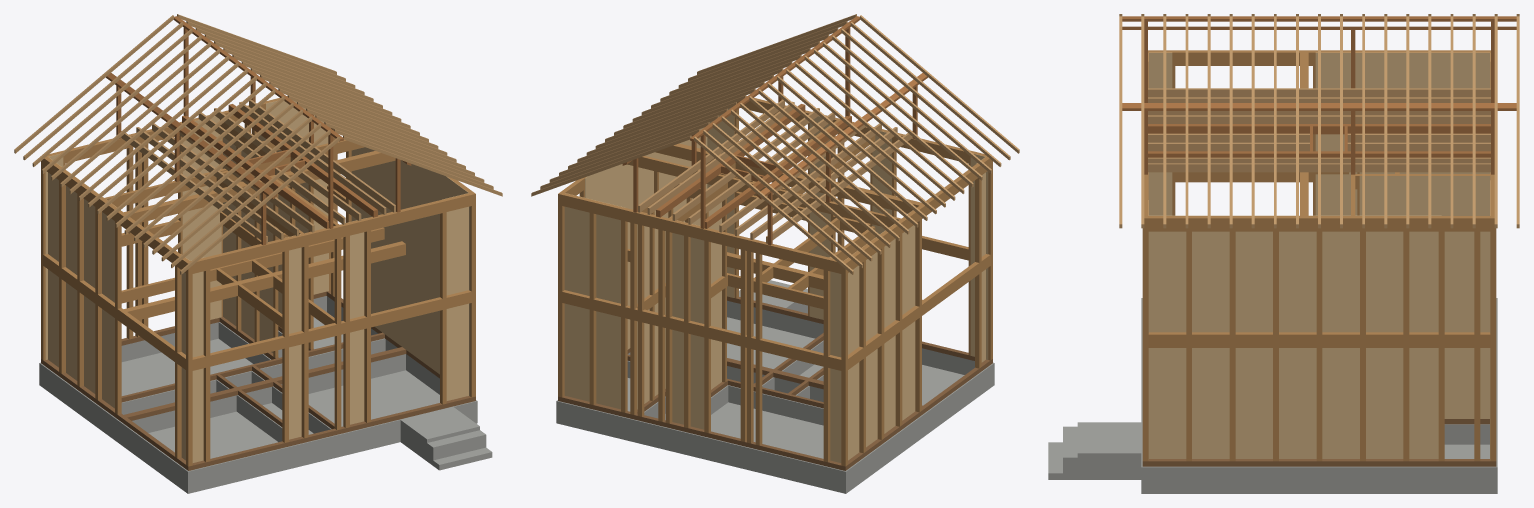
File: structure_W.glb
3 renders of one model, left to right at view 1: azimuth 30°, elevation 25°; view 2: azimuth 150°, elevation 25°; view 3: azimuth 270°, elevation 25°, orthographic. The views are drawn at different scales.
Visible parts, largest first — view 1: foundation:raft:slab, structure:F2:beam_B01, structure:F1:beam_B01, foundation:existing_plinth:south, structure:F1:beam_B05, foundation:internal_supports:I01, structure:F1:beam_B03, structure:F1:bearing_wall_BW04, foundation:entrance_supports:porch, structure:F1:sill_B01, structure:F1:beam_B06, structure:F2:bearing_wall_BW04 (+128 smaller); view 2: foundation:raft:slab, structure:F2:beam_B02, structure:F1:beam_B02, foundation:existing_plinth:north, structure:F1:bearing_wall_BW09, structure:F1:bearing_wall_BW08, structure:F2:bearing_wall_BW09, structure:F1:beam_B03, structure:F2:bearing_wall_BW08, structure:F1:sill_B02, foundation:existing_plinth:west, foundation:stem_walls:north (+130 smaller); view 3: structure:F1:beam_B04, foundation:existing_plinth:east, structure:F2:beam_B04, structure:F1:bearing_wall_BW15, structure:F1:bearing_wall_BW16, structure:F1:bearing_wall_BW17, structure:F1:bearing_wall_BW18, structure:F1:bearing_wall_BW19, structure:F1:bearing_wall_BW20, structure:F1:bearing_wall_BW24, structure:F2:bearing_wall_BW16, structure:F2:bearing_wall_BW17 (+81 smaller).
Boxes of the visible parts, x1,y1,x2,y2 form: foundation:raft:slab: (39, 317, 477, 493); structure:F2:beam_B01: (186, 192, 475, 274); structure:F1:beam_B01: (186, 290, 475, 371); foundation:existing_plinth:south: (185, 400, 477, 482); structure:F1:beam_B05: (123, 241, 405, 320); foundation:internal_supports:I01: (132, 354, 405, 432); structure:F1:beam_B03: (43, 254, 185, 369); structure:F1:bearing_wall_BW04: (446, 303, 468, 400); foundation:entrance_supports:porch: (400, 407, 479, 455); structure:F1:sill_B01: (186, 396, 475, 470); structure:F1:beam_B06: (121, 227, 384, 303); structure:F2:bearing_wall_BW04: (442, 193, 468, 295); foundation:raft:slab: (556, 317, 994, 493); structure:F2:beam_B02: (558, 192, 847, 274); structure:F1:beam_B02: (558, 290, 847, 371); foundation:existing_plinth:north: (556, 400, 848, 482); structure:F1:bearing_wall_BW09: (564, 303, 589, 401); structure:F1:bearing_wall_BW08: (596, 311, 620, 409); structure:F2:bearing_wall_BW09: (564, 193, 592, 295); structure:F1:beam_B03: (848, 254, 990, 369); structure:F2:bearing_wall_BW08: (595, 200, 624, 303); structure:F1:sill_B02: (558, 396, 847, 470); foundation:existing_plinth:west: (848, 365, 991, 480); foundation:stem_walls:north: (556, 412, 848, 488); structure:F1:beam_B04: (1148, 332, 1490, 347); foundation:existing_plinth:east: (1148, 466, 1490, 480); structure:F2:beam_B04: (1148, 216, 1490, 231); structure:F1:bearing_wall_BW15: (1149, 348, 1186, 458); structure:F1:bearing_wall_BW16: (1192, 348, 1229, 458); structure:F1:bearing_wall_BW17: (1235, 348, 1272, 458); structure:F1:bearing_wall_BW18: (1279, 348, 1316, 458); structure:F1:bearing_wall_BW19: (1322, 348, 1359, 458); structure:F1:bearing_wall_BW20: (1366, 348, 1403, 458); structure:F1:bearing_wall_BW24: (1448, 292, 1489, 418); structure:F2:bearing_wall_BW16: (1189, 215, 1229, 332); structure:F2:bearing_wall_BW17: (1233, 215, 1273, 332).
Size of the model in its own units: 9.09 by 8.88 by 9.63.
